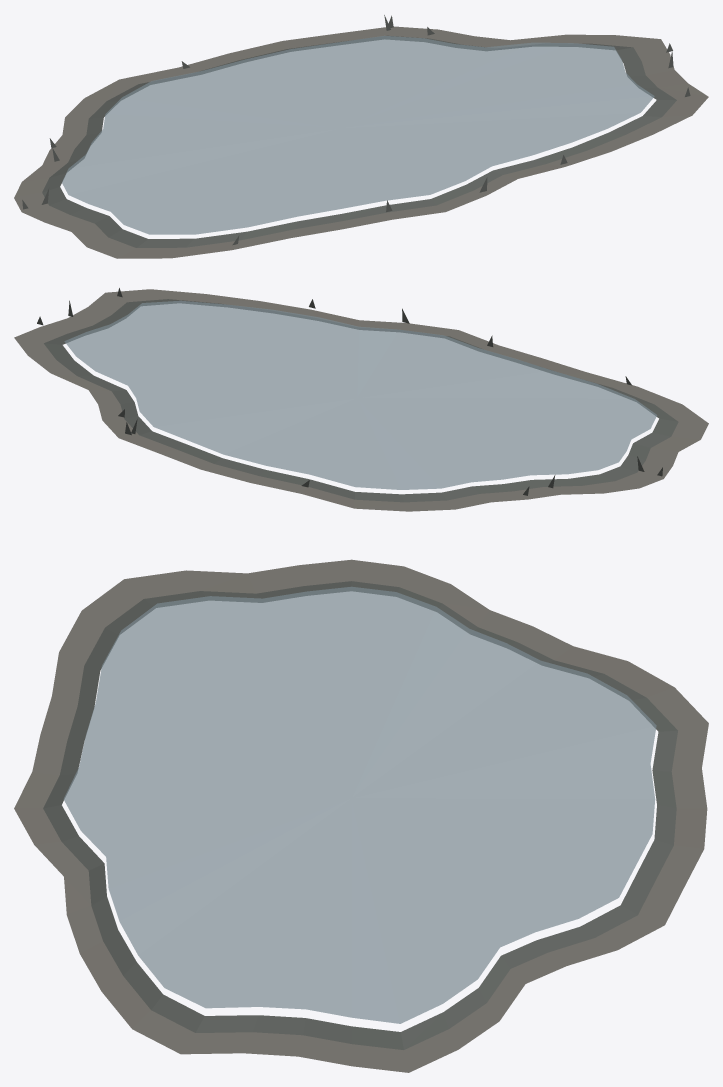
The model's file is r6b2h-kaluza-nieregularna-240.glb.
The picture shows the model from 3 angles, top to bottom: view 1: azimuth 30°, elevation 25°; view 2: azimuth 150°, elevation 25°; view 3: azimuth 270°, elevation 25°; orthographic projection. The views are drawn at different scales.
Parts seen in each view (by area): view 1: PrawkoWater.actual-surface, Sediment feathered to surrounding stone, Wetted meniscus rim, R6b2h micro stems; view 2: PrawkoWater.actual-surface, Sediment feathered to surrounding stone, Wetted meniscus rim, R6b2h micro stems; view 3: PrawkoWater.actual-surface, Sediment feathered to surrounding stone, Wetted meniscus rim.
Part boxes in pixels (x1=…): PrawkoWater.actual-surface: x1=62, y1=35, x2=654, y2=234; Sediment feathered to surrounding stone: x1=14, y1=26, x2=708, y2=258; Wetted meniscus rim: x1=42, y1=35, x2=676, y2=247; R6b2h micro stems: x1=22, y1=15, x2=690, y2=245; PrawkoWater.actual-surface: x1=64, y1=300, x2=657, y2=489; Sediment feathered to surrounding stone: x1=14, y1=289, x2=708, y2=511; Wetted meniscus rim: x1=44, y1=299, x2=678, y2=502; R6b2h micro stems: x1=37, y1=288, x2=662, y2=495; PrawkoWater.actual-surface: x1=63, y1=586, x2=656, y2=1023; Sediment feathered to surrounding stone: x1=14, y1=559, x2=708, y2=1072; Wetted meniscus rim: x1=43, y1=581, x2=677, y2=1049.
Bounding box in the file's own units: 2.47 × 0.0725 × 1.41.
